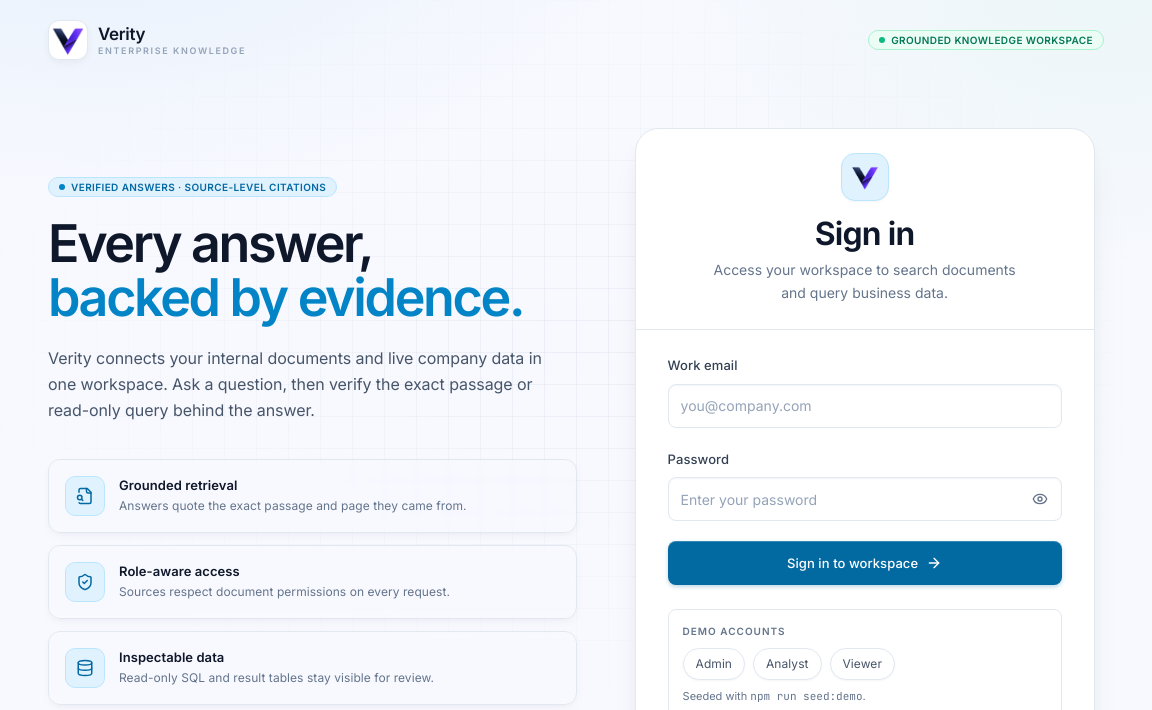
Test case: App auth experience › shows a sign-in error for rejected credentials
The width and height of the screenshot is (1152, 710).
In the field labelled "Work email": [865, 406] box [668, 384, 1062, 428], type "admin@verity.dev"
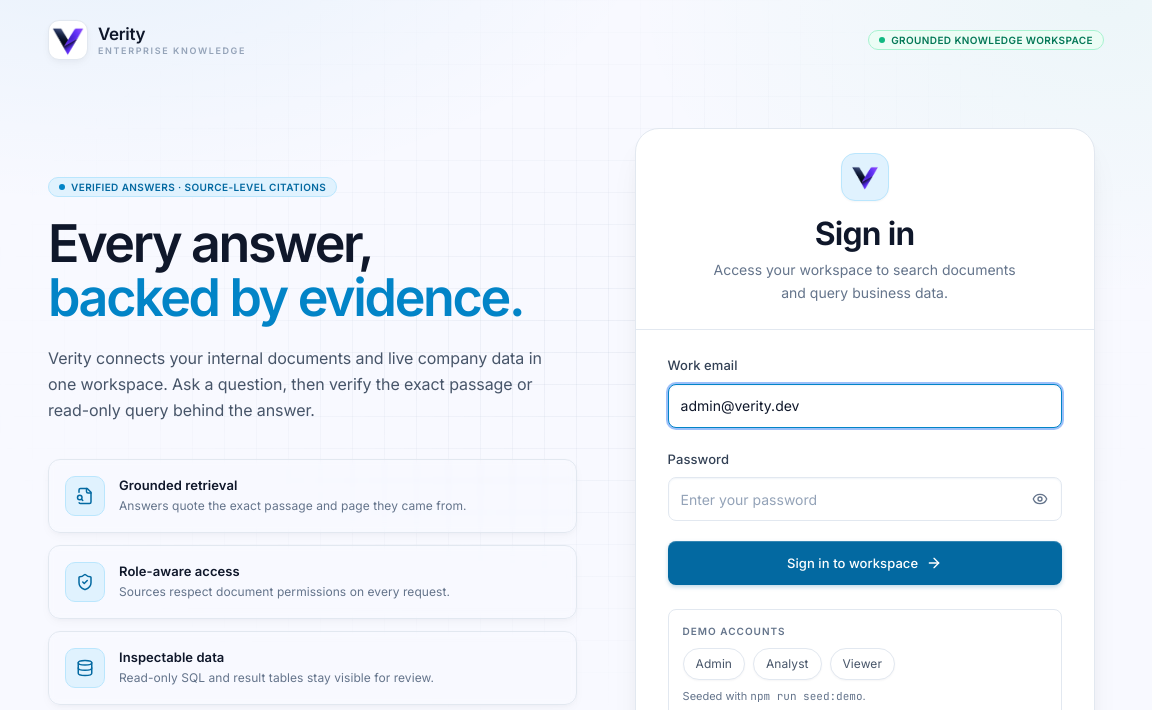
In the password field labelled "Password": [865, 499] box [668, 477, 1062, 521], type "wrong-password"
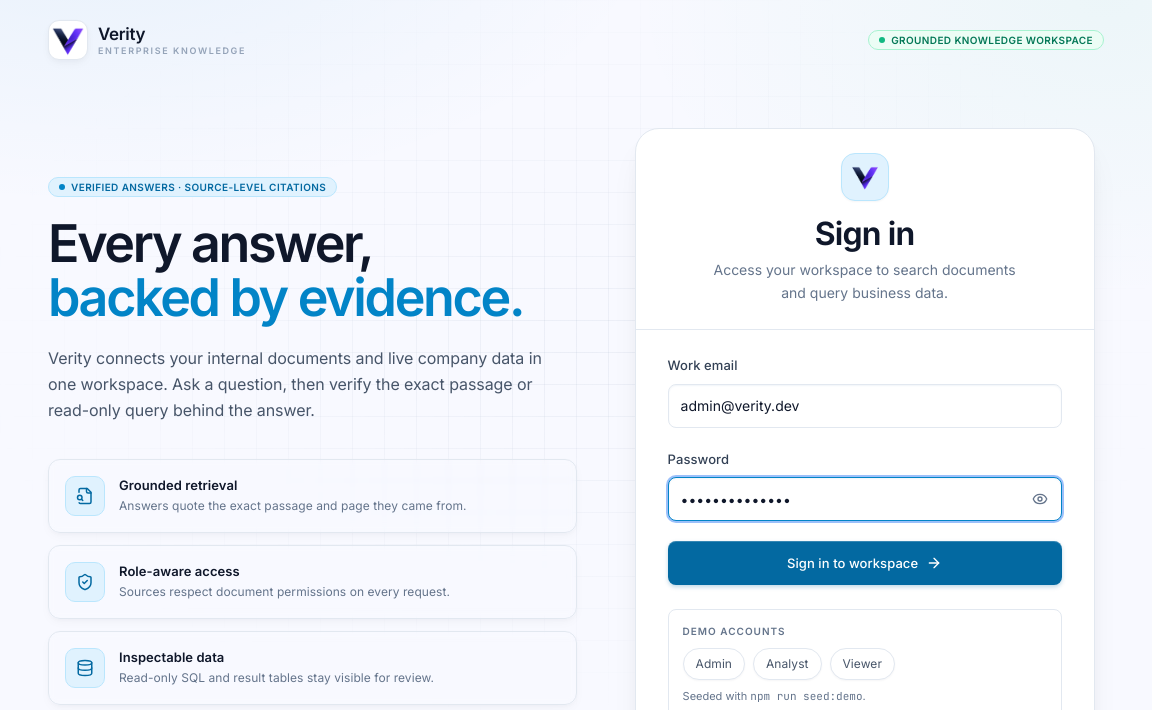
Click the button "Sign in to workspace": [865, 563] box [668, 541, 1062, 585]
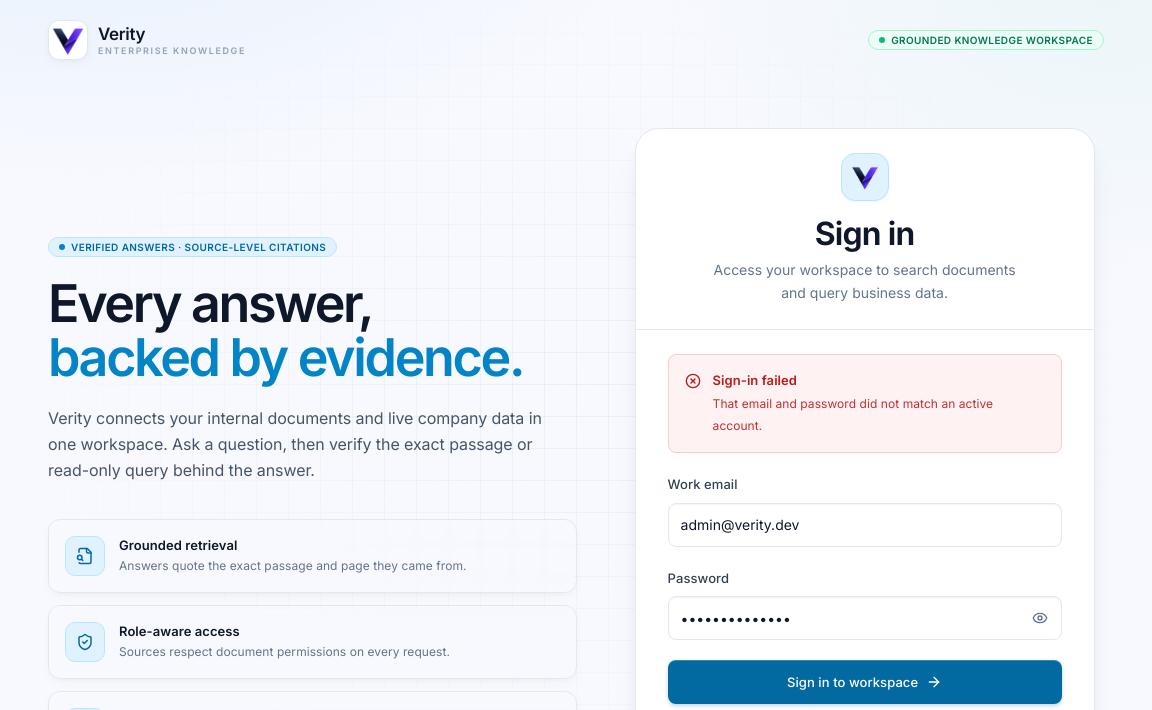
Result: the text "That email and password did not match an active account." is shown at [713, 396, 993, 432]
